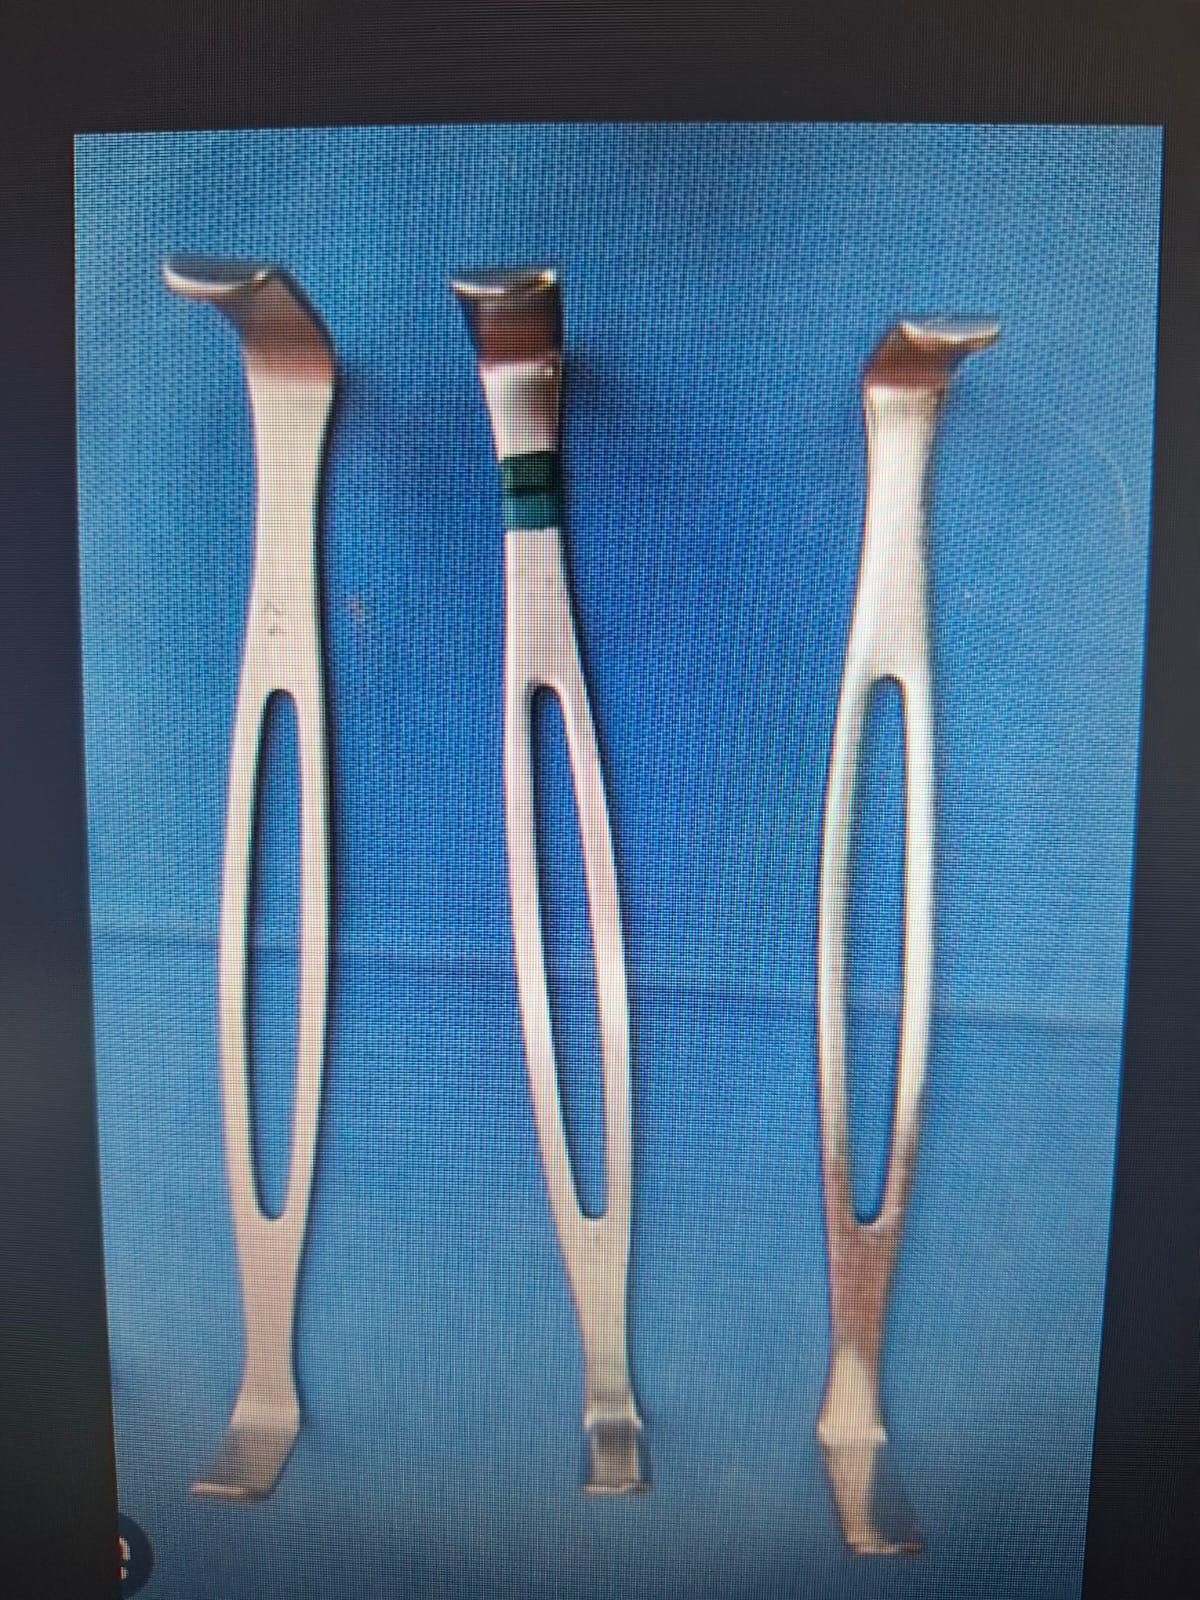Army Navy Retractor: (118, 233, 400, 1510), (807, 288, 1002, 1573)
